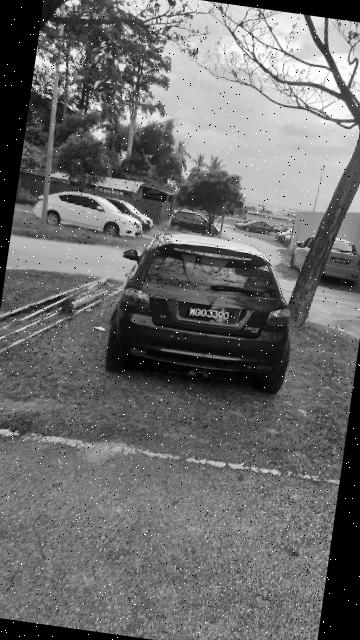License_Plate: (179, 299, 242, 327)
car: (96, 224, 305, 399)
